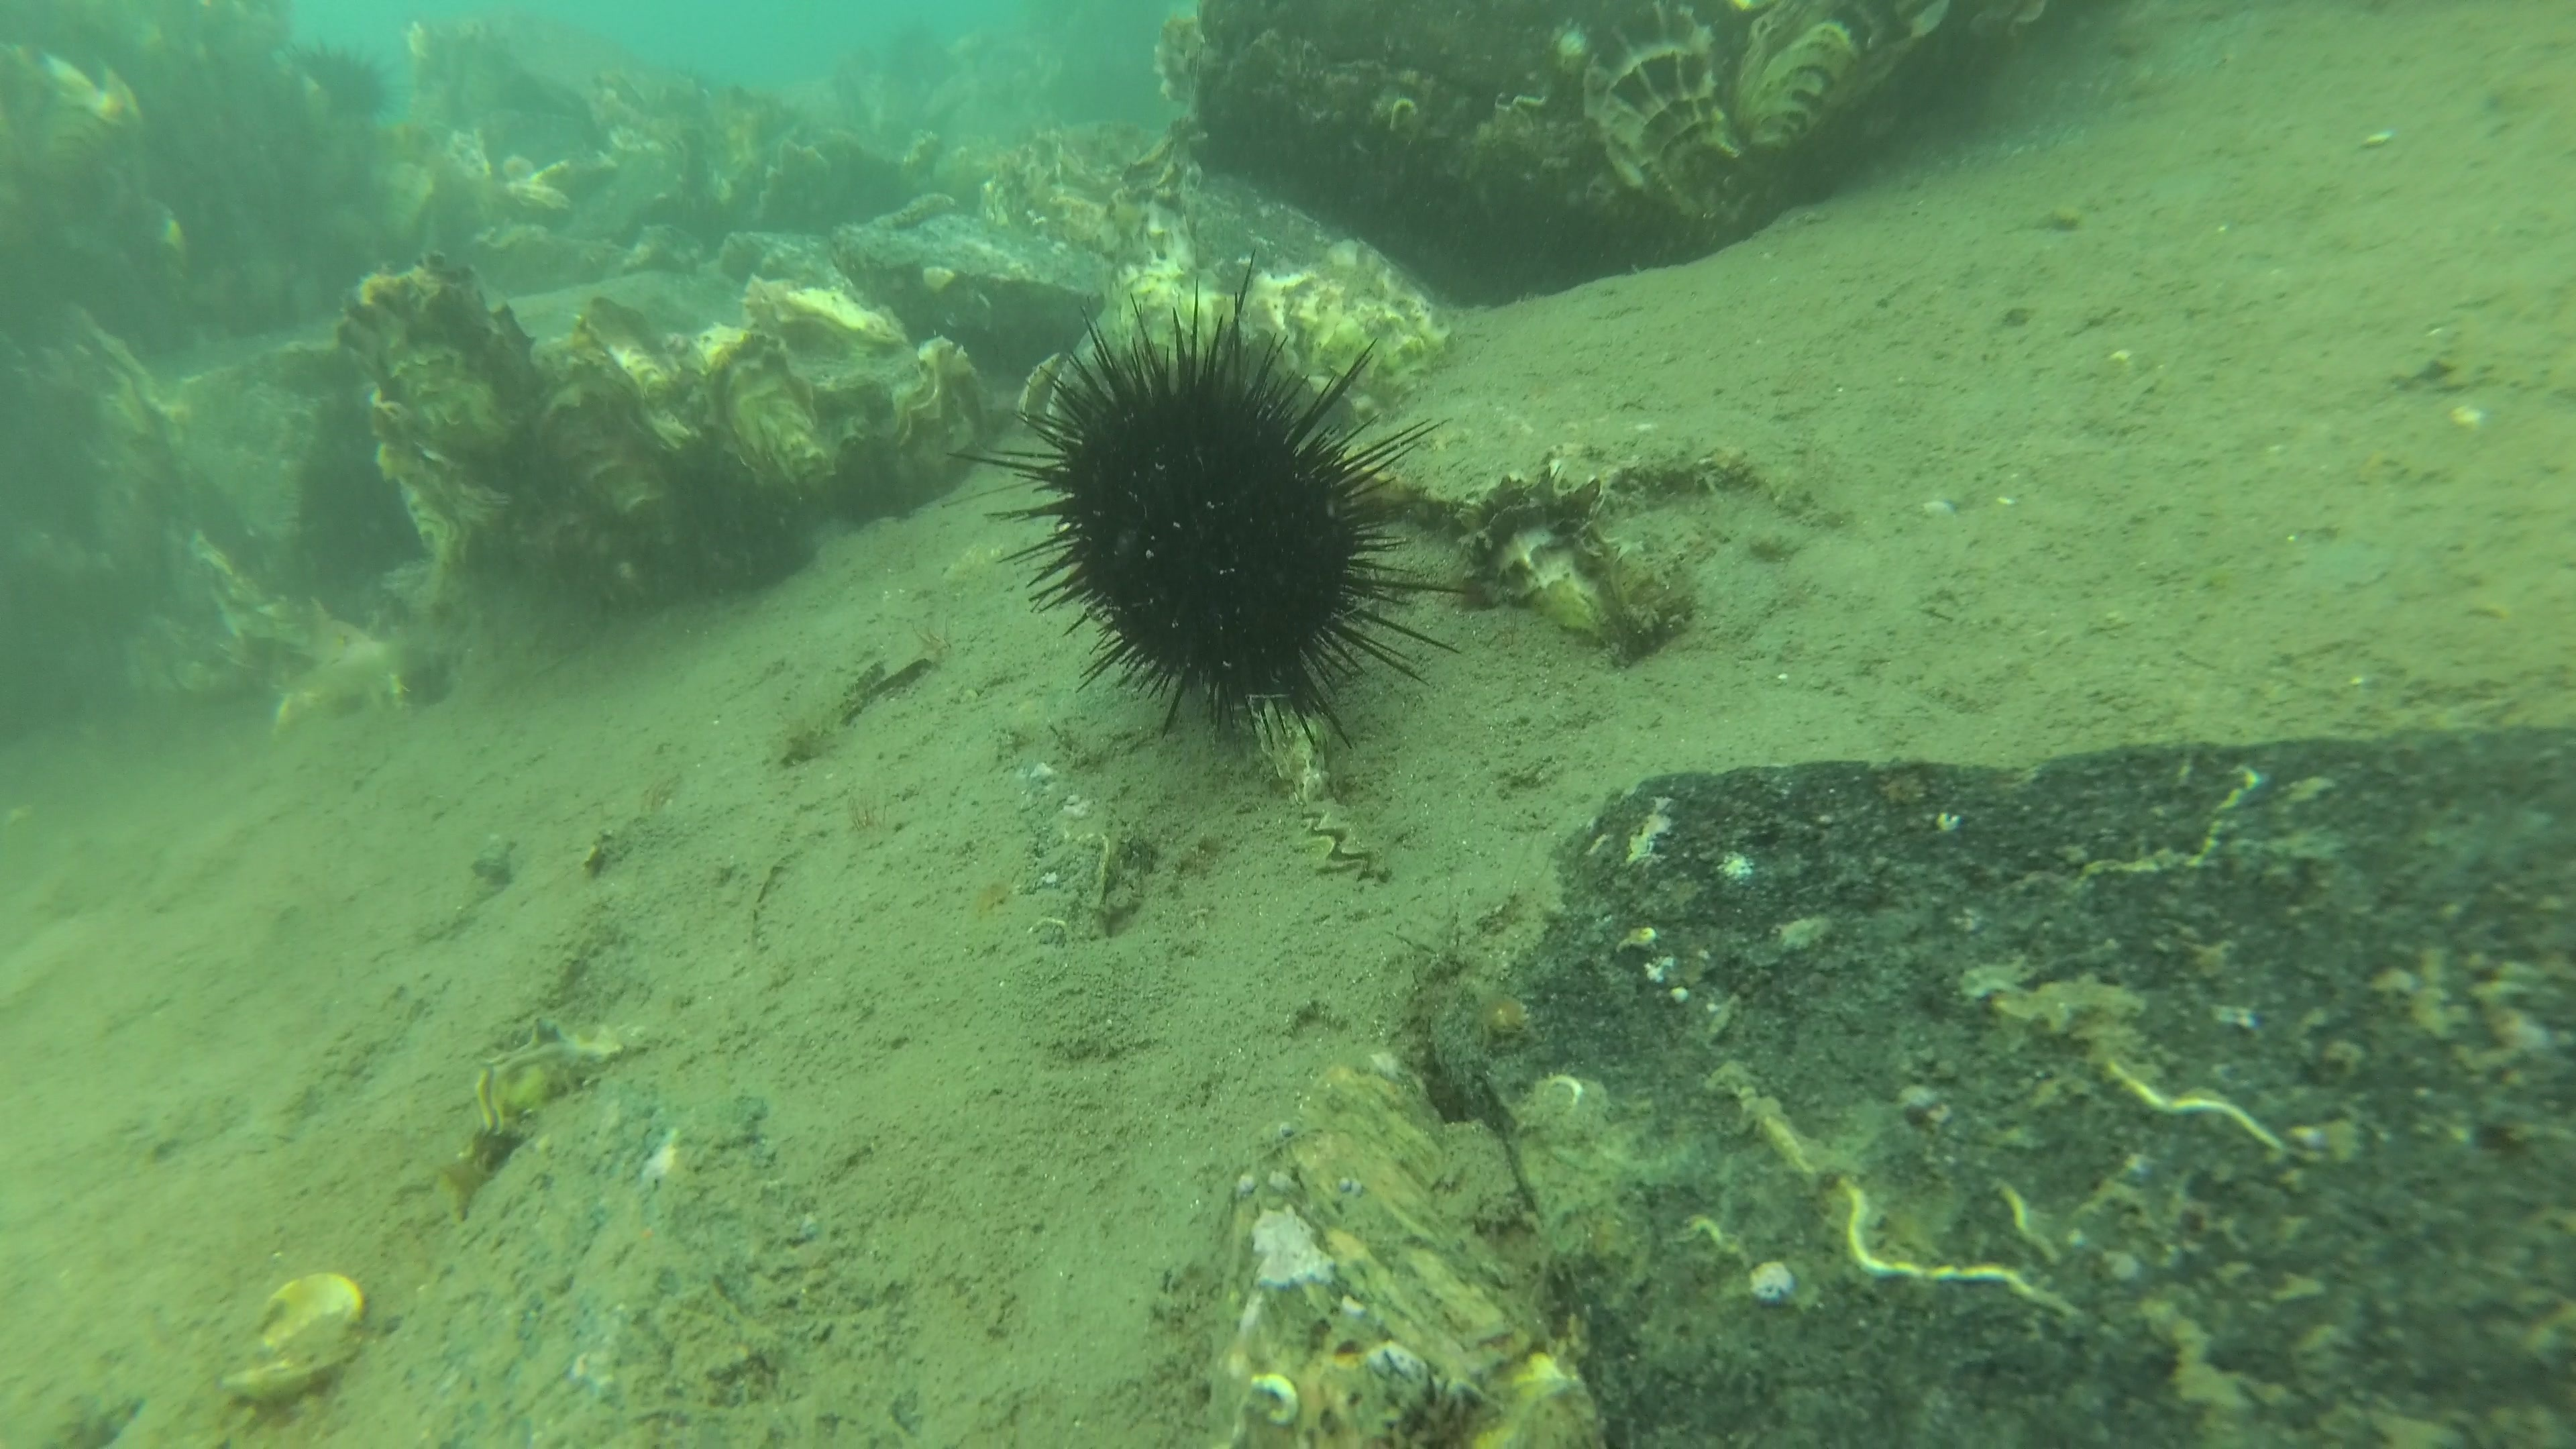echinus: (938, 244, 1483, 761), (274, 446, 433, 591)
